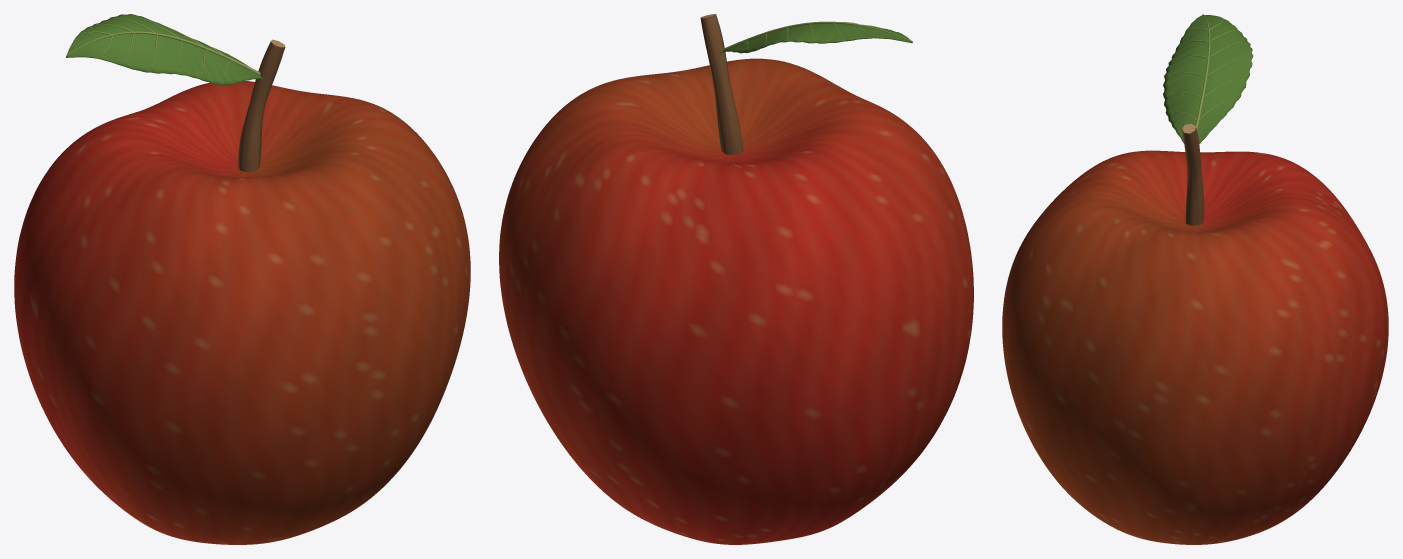
Rendered from apple.glb.
3 renders of one model, left to right at view 1: azimuth 30°, elevation 25°; view 2: azimuth 150°, elevation 25°; view 3: azimuth 270°, elevation 25°, orthographic. The views are drawn at different scales.
Parts seen in each view (by area): view 1: Apple Body, Apple Leaf, Apple Stem, Leaf Midrib; view 2: Apple Body, Apple Stem, Apple Leaf; view 3: Apple Body, Apple Leaf, Apple Stem.
Boxes of the visible parts, x1=… form: Apple Body: x1=14, y1=81, x2=470, y2=544; Apple Leaf: x1=66, y1=14, x2=263, y2=85; Apple Stem: x1=238, y1=39, x2=285, y2=172; Leaf Midrib: x1=66, y1=31, x2=260, y2=75; Apple Body: x1=499, y1=58, x2=973, y2=544; Apple Stem: x1=700, y1=14, x2=743, y2=154; Apple Leaf: x1=719, y1=23, x2=912, y2=53; Apple Body: x1=1002, y1=150, x2=1388, y2=544; Apple Leaf: x1=1163, y1=15, x2=1253, y2=143; Apple Stem: x1=1182, y1=123, x2=1204, y2=225.
Size of the model in its own units: 2.04 by 2.45 by 1.97.
